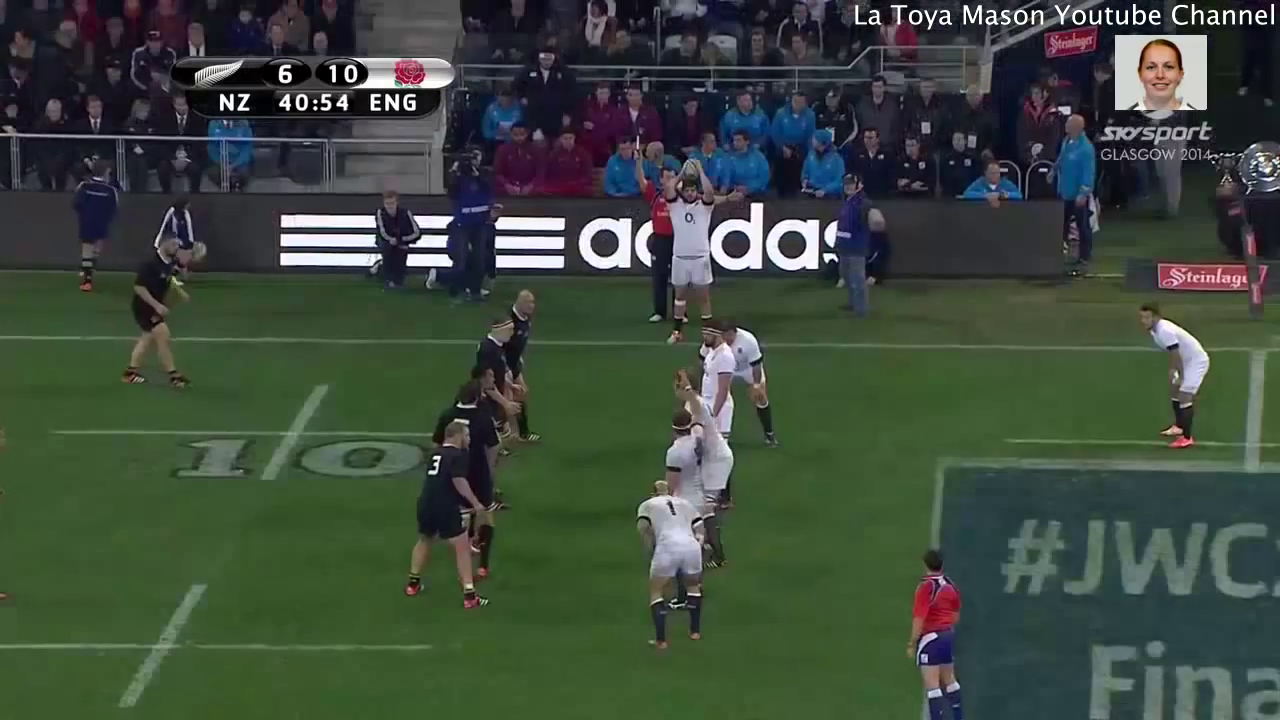10_metre: (1, 576, 444, 720), (45, 376, 521, 495)
ball: (673, 150, 709, 191)
player: (381, 417, 485, 616), (113, 216, 203, 409), (645, 153, 729, 348), (1130, 293, 1222, 468), (897, 540, 980, 720), (630, 474, 713, 644), (674, 368, 737, 576), (645, 362, 705, 554), (713, 312, 785, 456), (423, 362, 500, 462), (686, 317, 741, 450), (508, 279, 549, 452), (469, 325, 529, 440)
